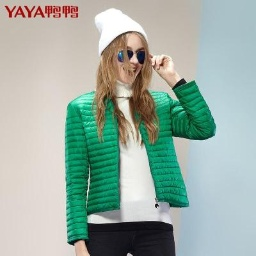face: (95, 25, 161, 129)
